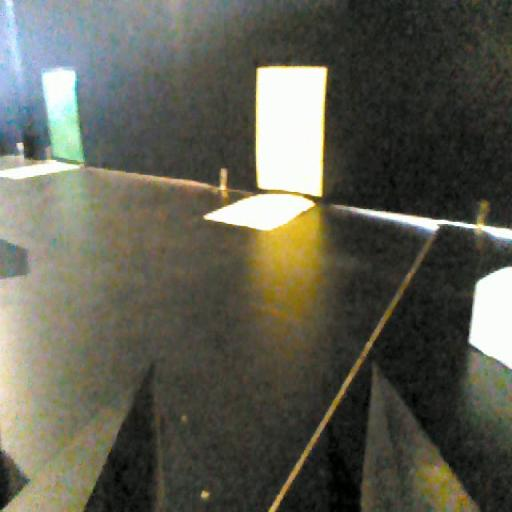cube: (464, 262, 512, 376)
